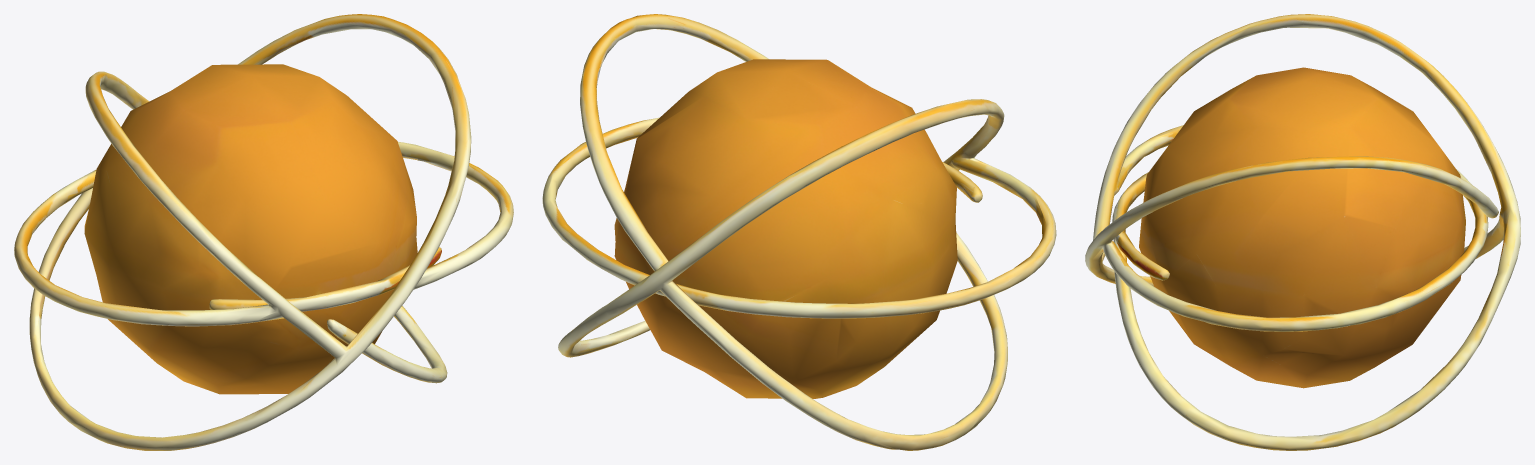
The model's file is core.glb.
3 renders of one model, left to right at view 1: azimuth 30°, elevation 25°; view 2: azimuth 150°, elevation 25°; view 3: azimuth 270°, elevation 25°, orthographic. The views are drawn at different scales.
Visible parts, largest first — view 1: Mesh_0; view 2: Mesh_0; view 3: Mesh_0.
Boxes of the visible parts, left/top/right/bottom form: Mesh_0: left=14, top=14, right=513, bottom=450; Mesh_0: left=542, top=14, right=1056, bottom=450; Mesh_0: left=1085, top=14, right=1520, bottom=450.
Bounding box in the file's own units: 1.91 × 1.25 × 1.68.
Materials: 1 (1 with a texture image).
